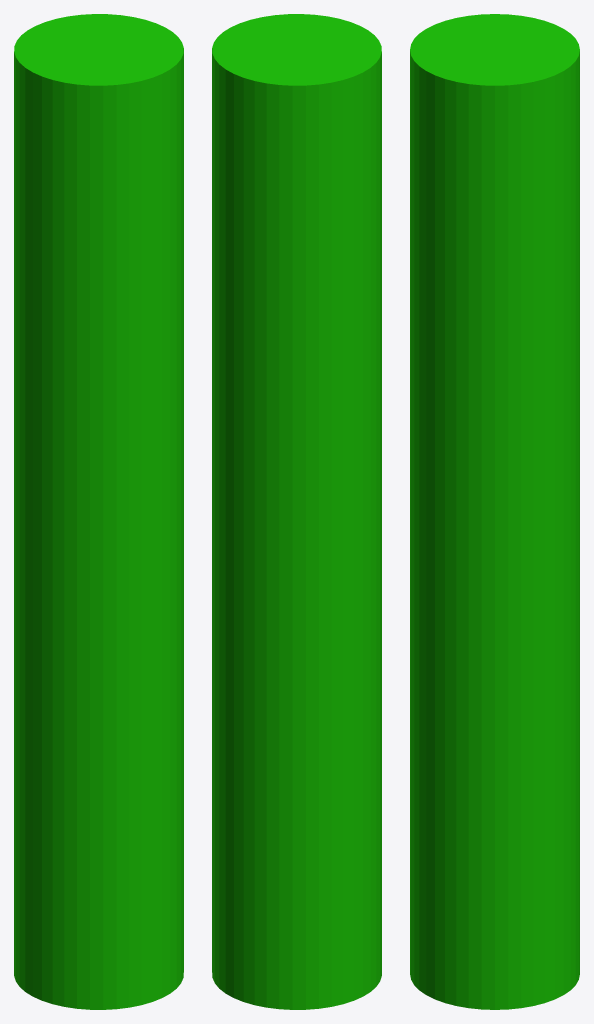
Rendered from p0_green.dae.
The picture shows the model from 3 angles, left to right: view 1: azimuth 30°, elevation 25°; view 2: azimuth 150°, elevation 25°; view 3: azimuth 270°, elevation 25°; orthographic projection.
Visible parts, largest first — view 1: Palo11000; view 2: Palo11000; view 3: Palo11000.
Part boxes in pixels (left/top/right/bottom): Palo11000: left=14, top=14, right=183, bottom=1009; Palo11000: left=212, top=14, right=381, bottom=1009; Palo11000: left=410, top=14, right=579, bottom=1009.
Bounding box in the file's own units: 0.5 × 0.5 × 3.
